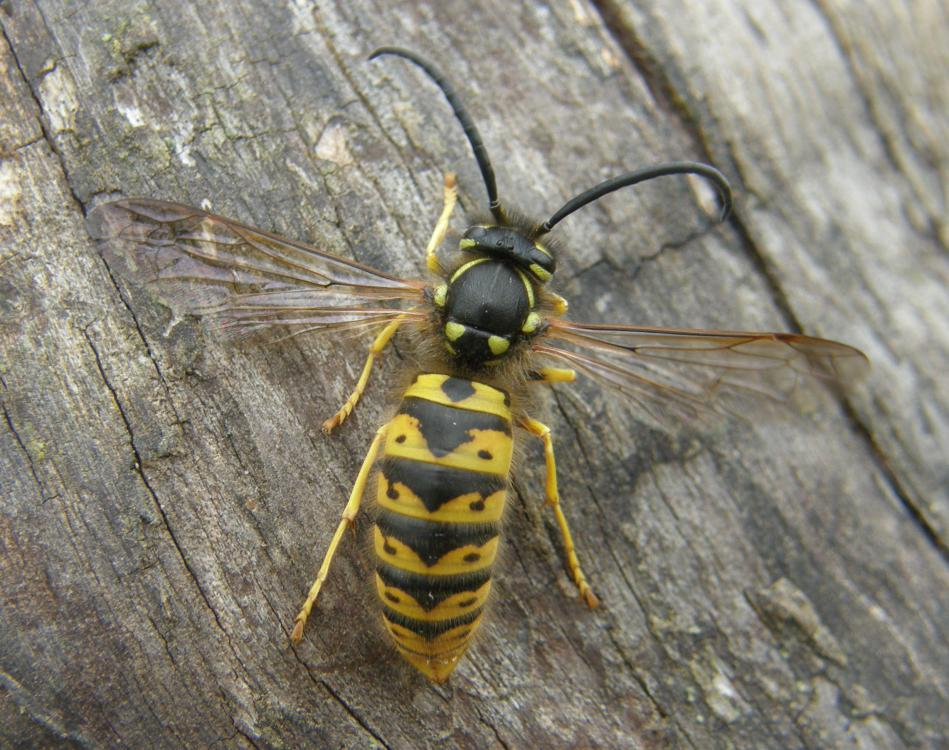chax: (58, 23, 870, 737)
